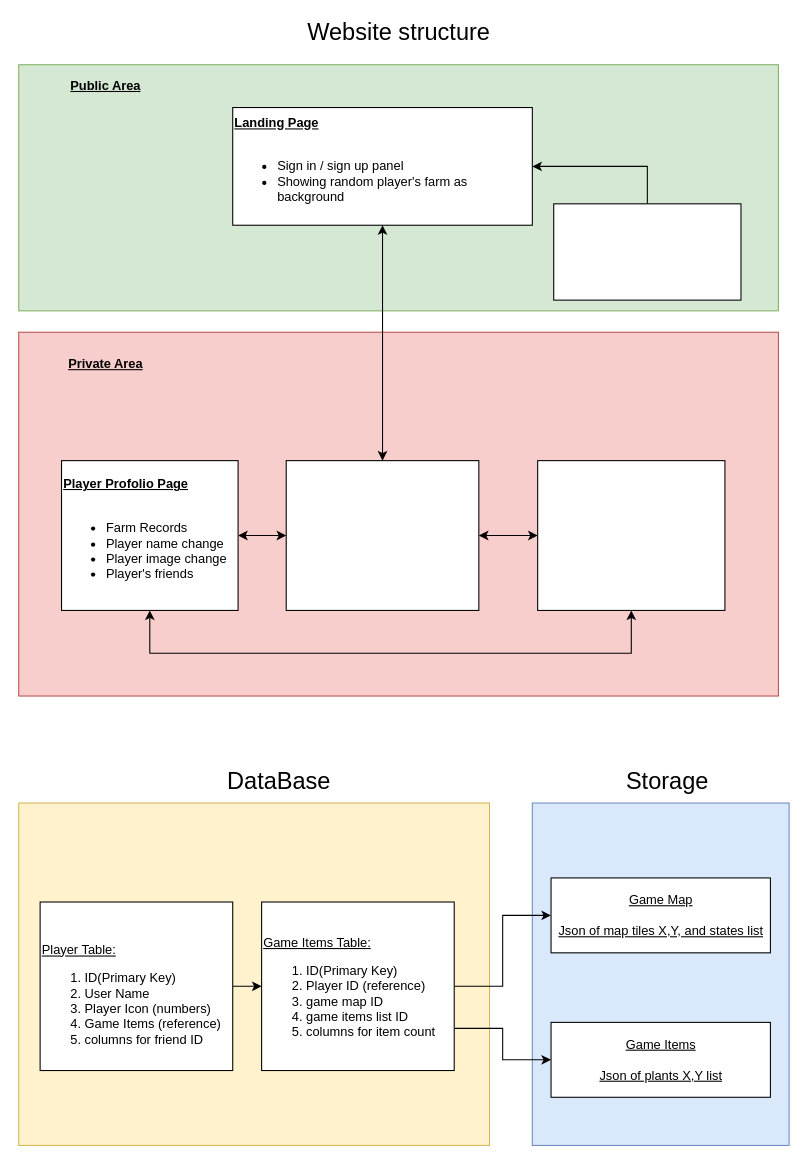
Some shapes in this 808 by 1164 pixel diagram are drawn without their labels. Each missing label, with the centre of its shape:
"404 Page Back to home page" belongs at point (647, 251).
"Game Page Main Game area Quick links to friend and random player's farm" belongs at point (382, 535).
"Ranking Page Ranking of all player Ranking of friends" belongs at point (631, 535).
